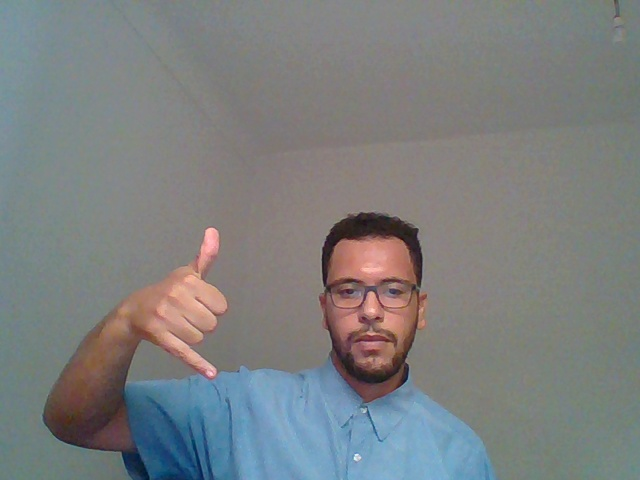callme: (34, 185, 233, 461)
